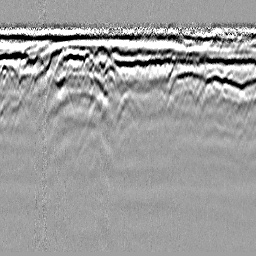cavity: (114, 88, 144, 125)
